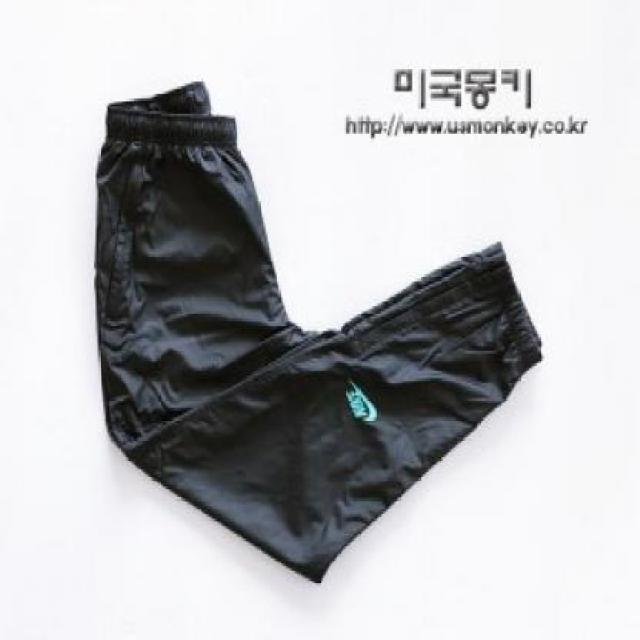Nike: (342, 375, 376, 420)
